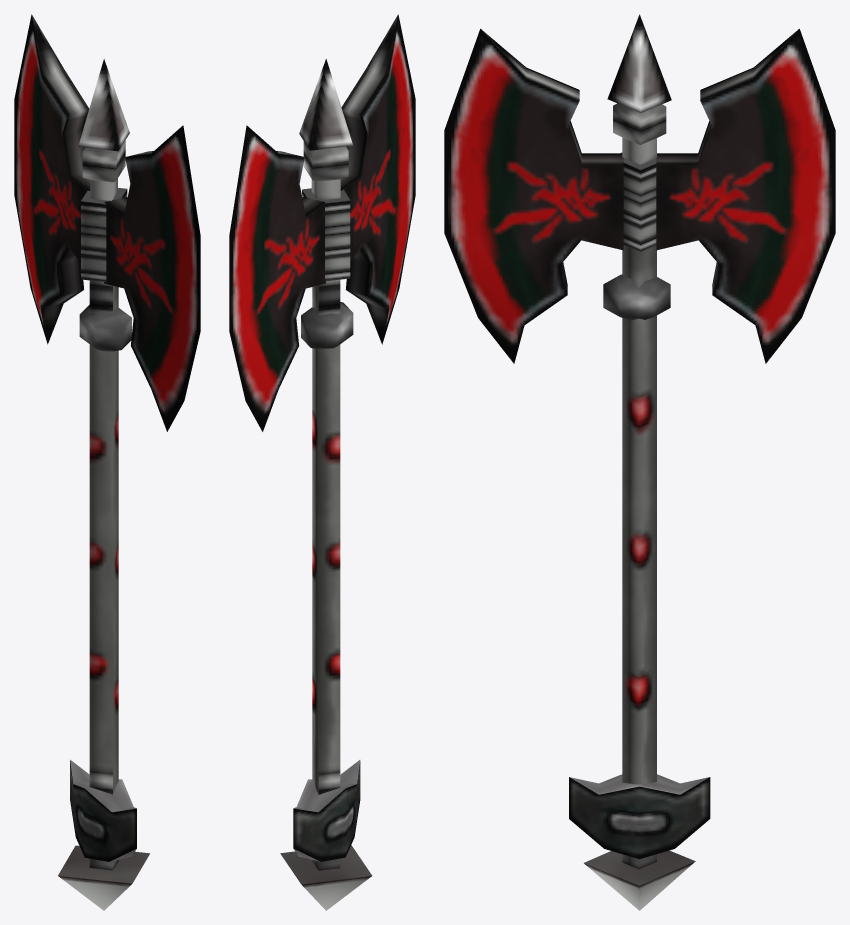
Rendered from WP_2H_GreatAxe06.FBX.
3 views of the same model, side by side, from view 1: azimuth 30°, elevation 25°; view 2: azimuth 150°, elevation 25°; view 3: azimuth 270°, elevation 25° (orthographic). The views are drawn at different scales.
Parts seen in each view (by area): view 1: WP_2H_GreatAxe06; view 2: WP_2H_GreatAxe06; view 3: WP_2H_GreatAxe06.
Part boxes in pixels (x1,y1,x2,y2): WP_2H_GreatAxe06: [14, 14, 200, 910]; WP_2H_GreatAxe06: [229, 14, 415, 910]; WP_2H_GreatAxe06: [444, 14, 835, 910].
Bounding box in the file's own units: 19.47 × 172 × 67.86.
